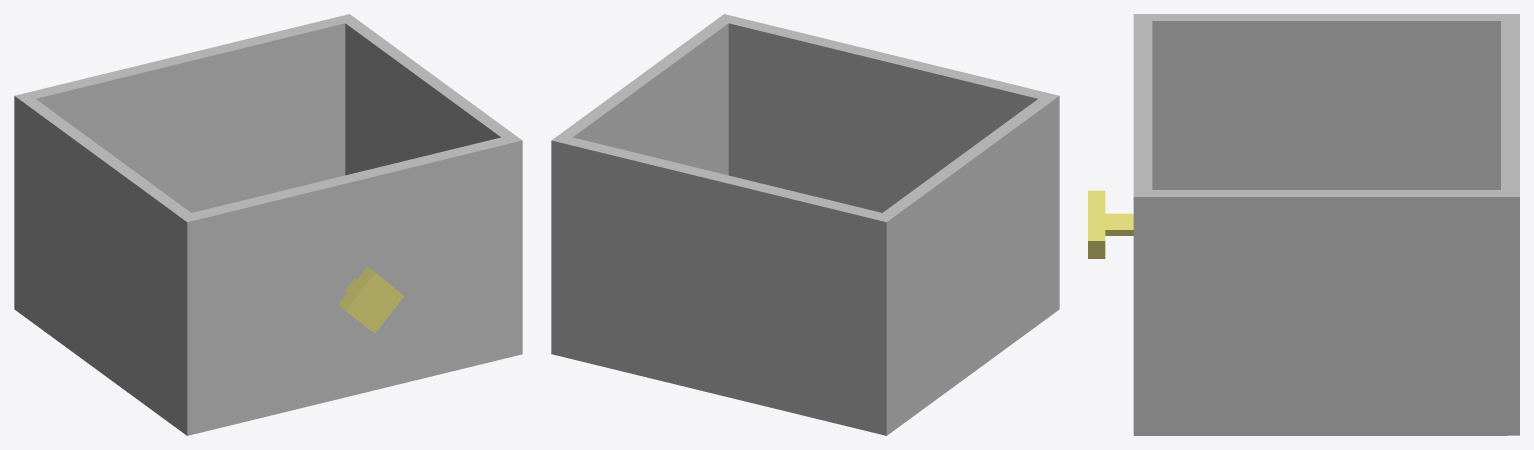
Rendered from Itr_Desk_Drawer_Inside2_06.FBX.
The picture shows the model from 3 angles, left to right: view 1: azimuth 30°, elevation 25°; view 2: azimuth 150°, elevation 25°; view 3: azimuth 270°, elevation 25°; orthographic projection. The views are drawn at different scales.
Parts seen in each view (by area): view 1: Itr_Desk_Drawer_Inside2_06; view 2: Itr_Desk_Drawer_Inside2_06; view 3: Itr_Desk_Drawer_Inside2_06.
Part boxes in pixels (x1,y1,x2,y2): Itr_Desk_Drawer_Inside2_06: [14, 14, 522, 435]; Itr_Desk_Drawer_Inside2_06: [551, 14, 1059, 435]; Itr_Desk_Drawer_Inside2_06: [1088, 14, 1519, 435].
Size of the model in its own units: 14.4 by 8.78 by 14.37.
